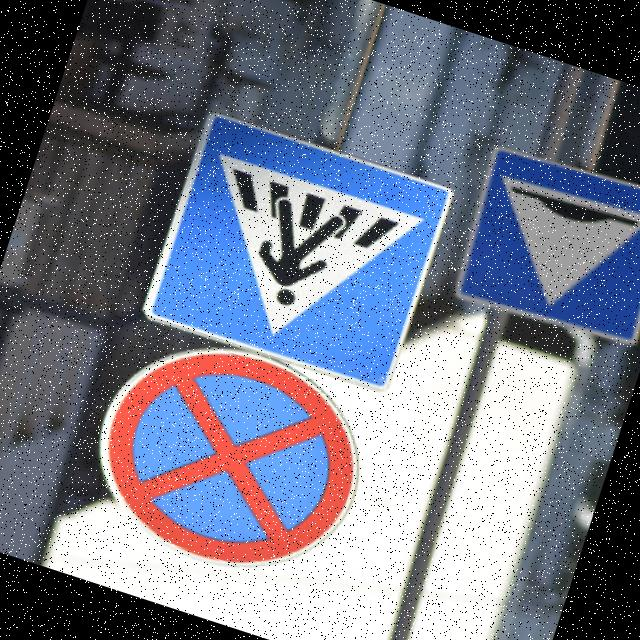crosswalk: (132, 95, 472, 400)
no_parking: (62, 314, 392, 600)
